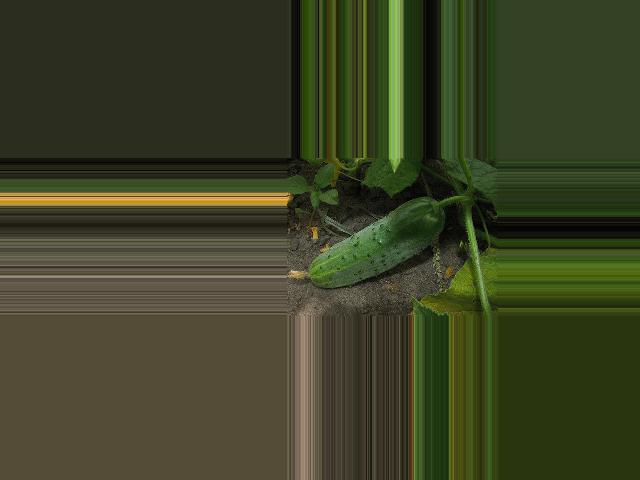cucumber: (287, 197, 444, 289)
